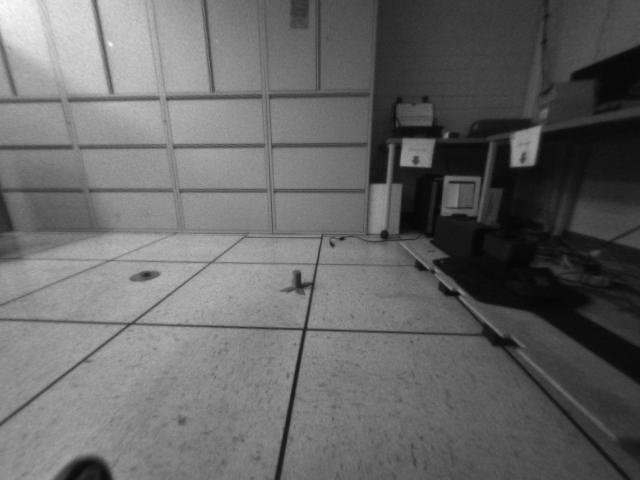X: (280, 264, 317, 301)
